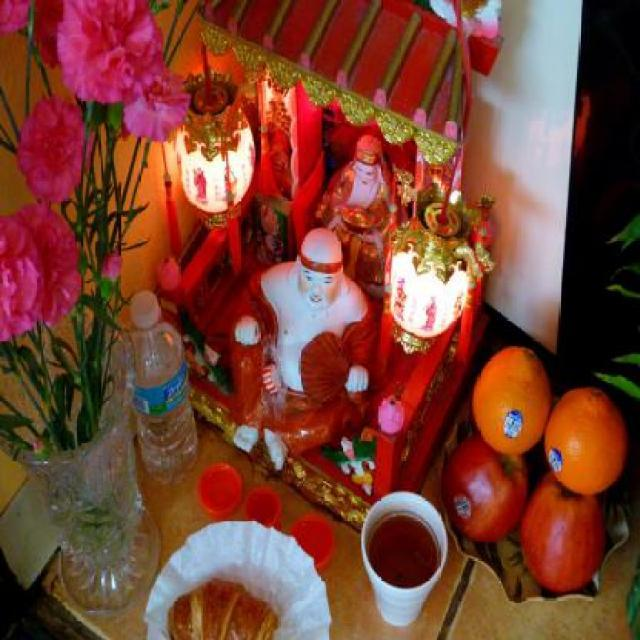Orange: (470, 344, 552, 454), (543, 386, 626, 492)
